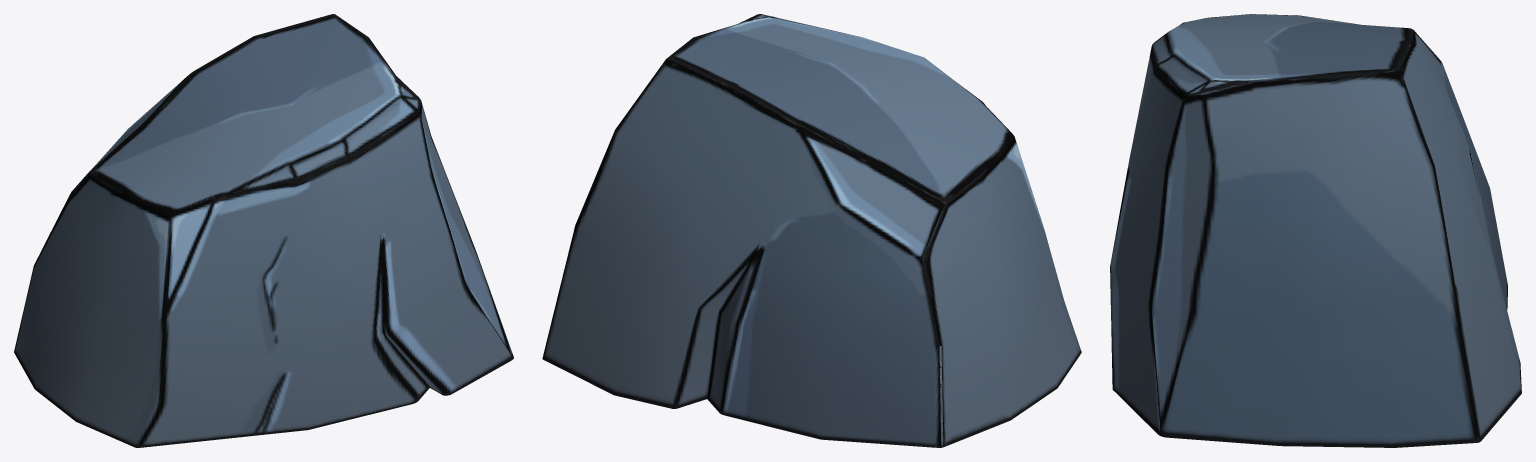
File: Moonset_FBX_rock_02.fbx
The picture shows the model from 3 angles, left to right: view 1: azimuth 30°, elevation 25°; view 2: azimuth 150°, elevation 25°; view 3: azimuth 270°, elevation 25°; orthographic projection. The views are drawn at different scales.
Parts seen in each view (by area): view 1: rocks2; view 2: rocks2; view 3: rocks2.
Boxes of the visible parts, box(x1,y1,x2,y2) form: rocks2: box(14, 14, 513, 447); rocks2: box(542, 14, 1081, 447); rocks2: box(1110, 14, 1521, 447).
Size of the model in its own units: 4.33 by 2.86 by 3.29.
